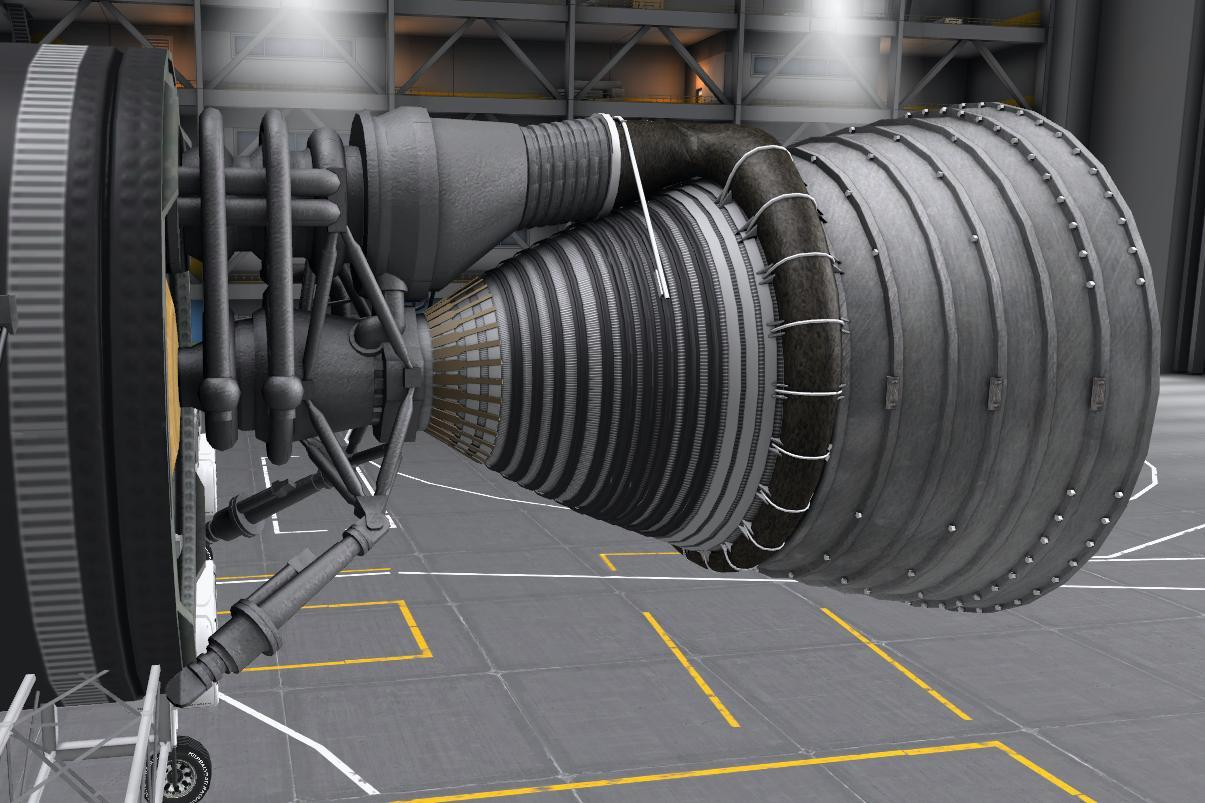thruster: (426, 96, 1167, 617)
